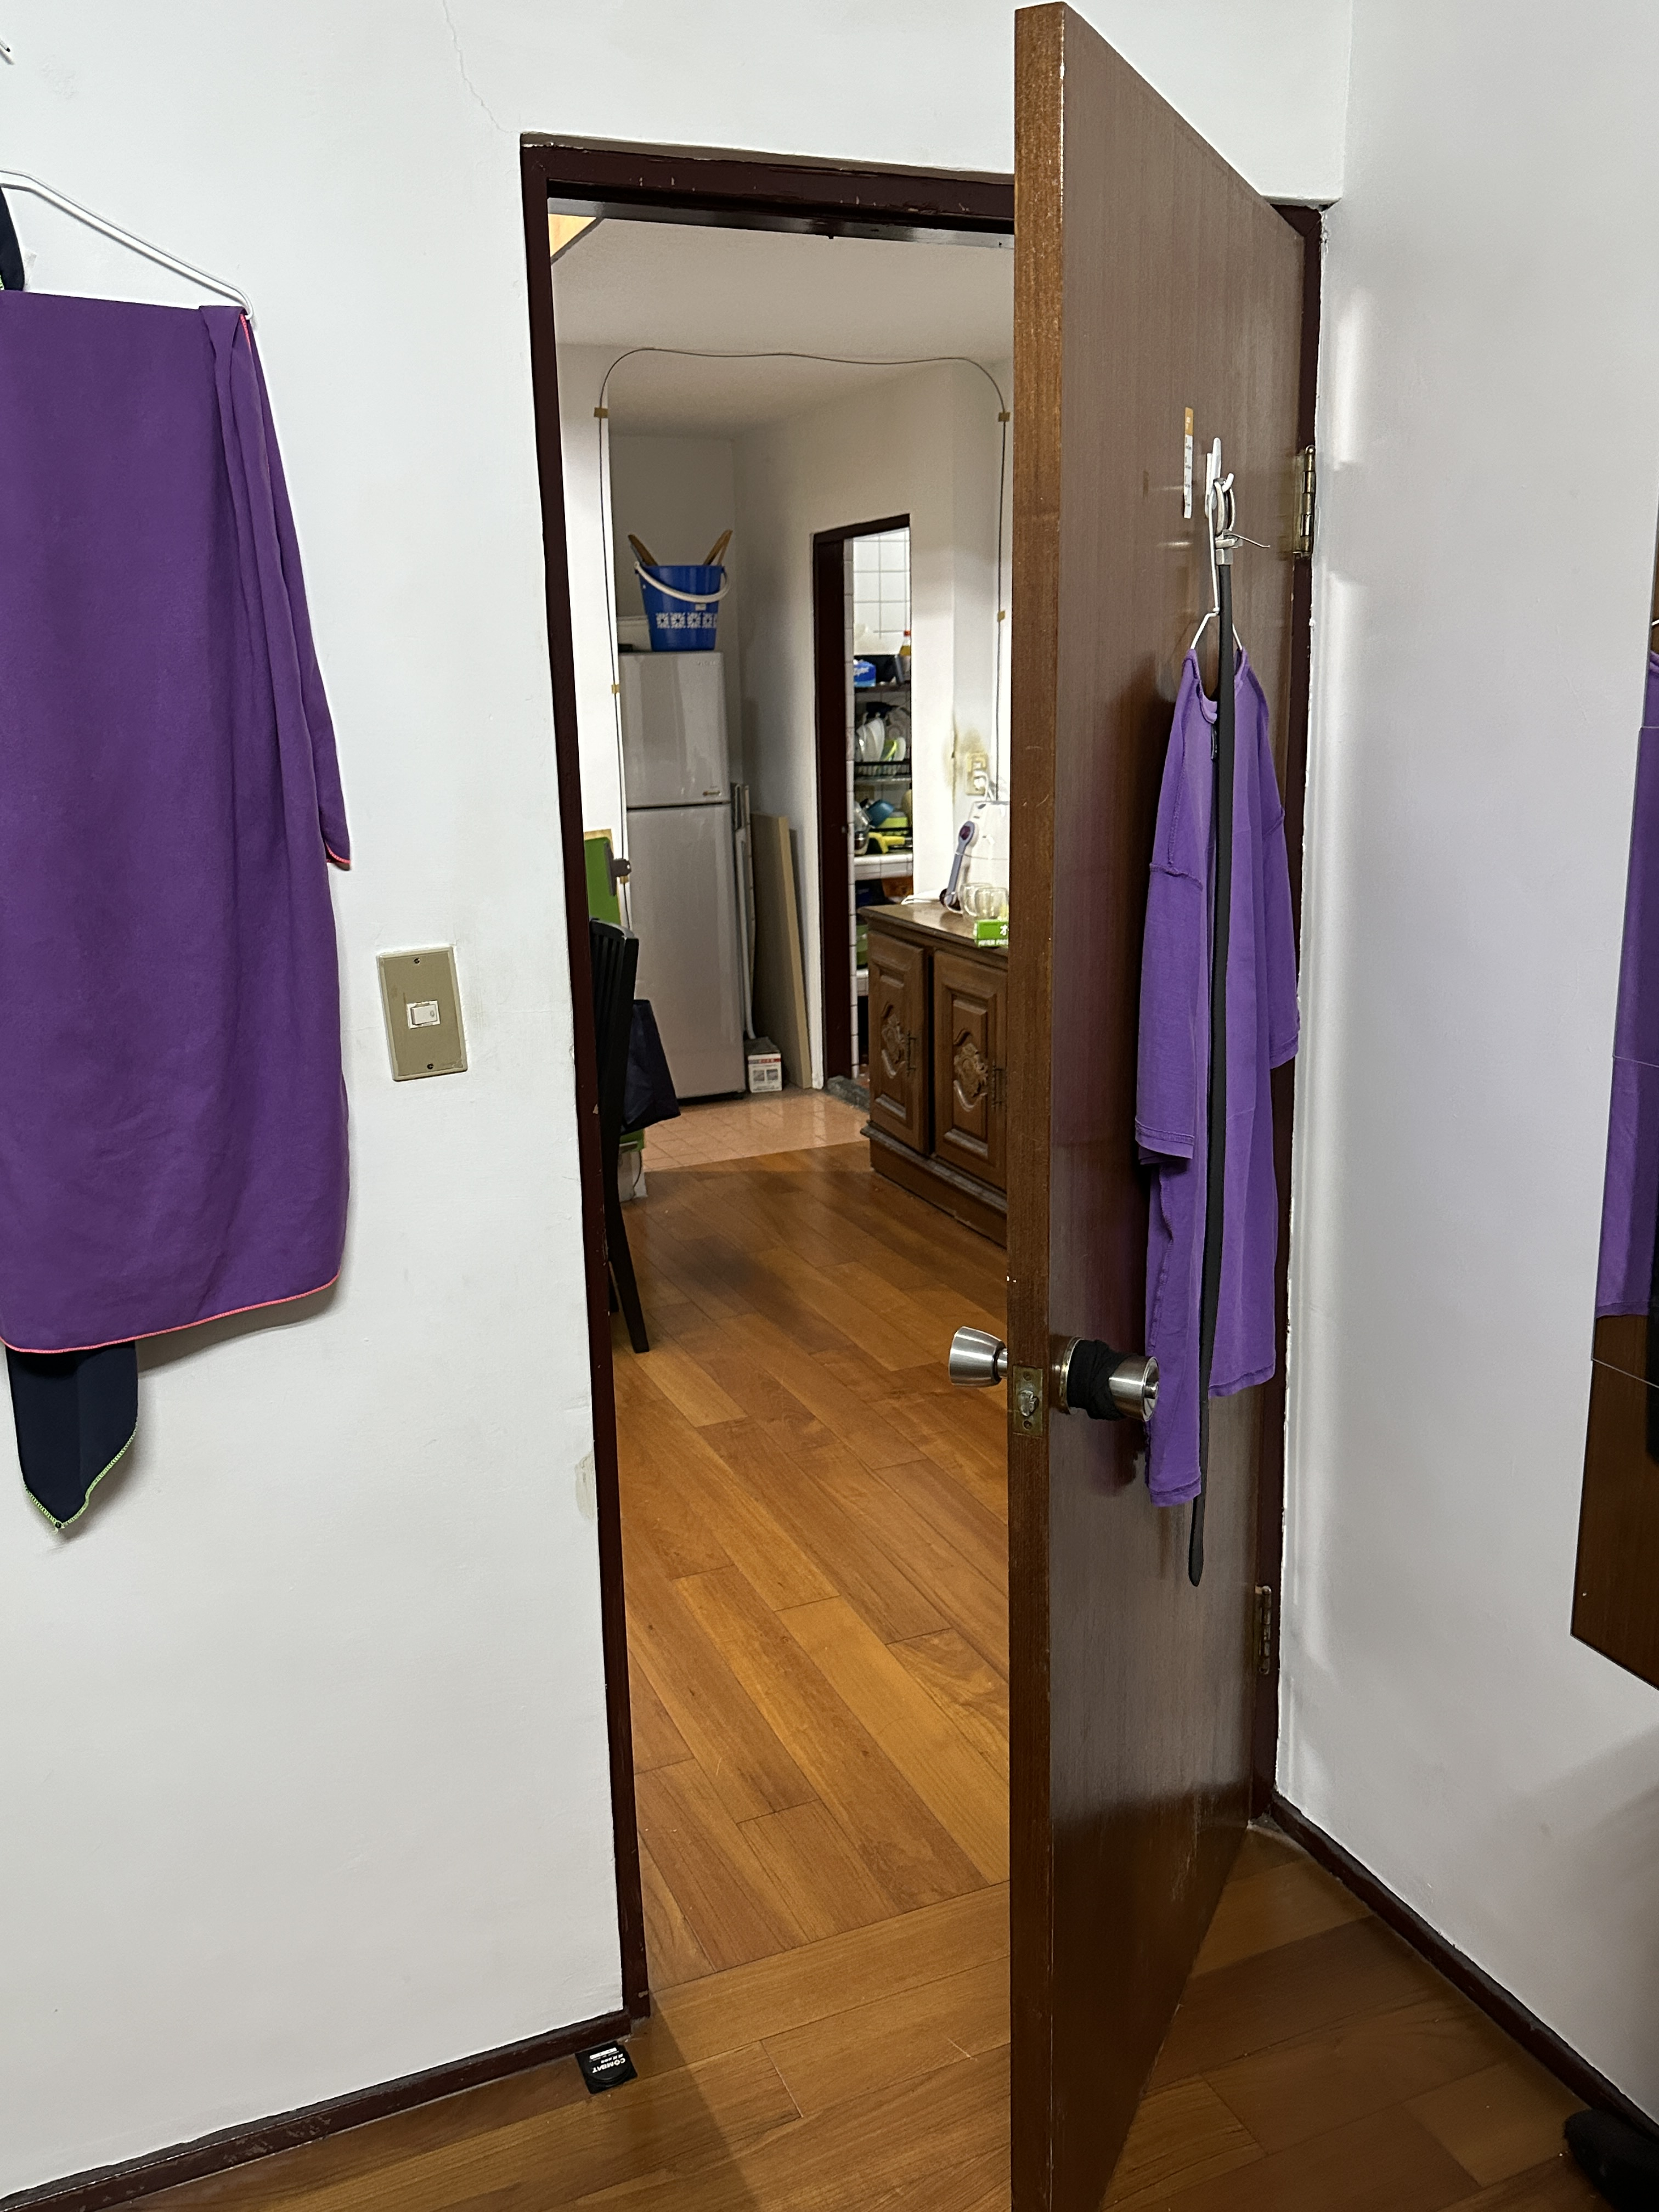Door Open: (371, 19, 1455, 2212)
